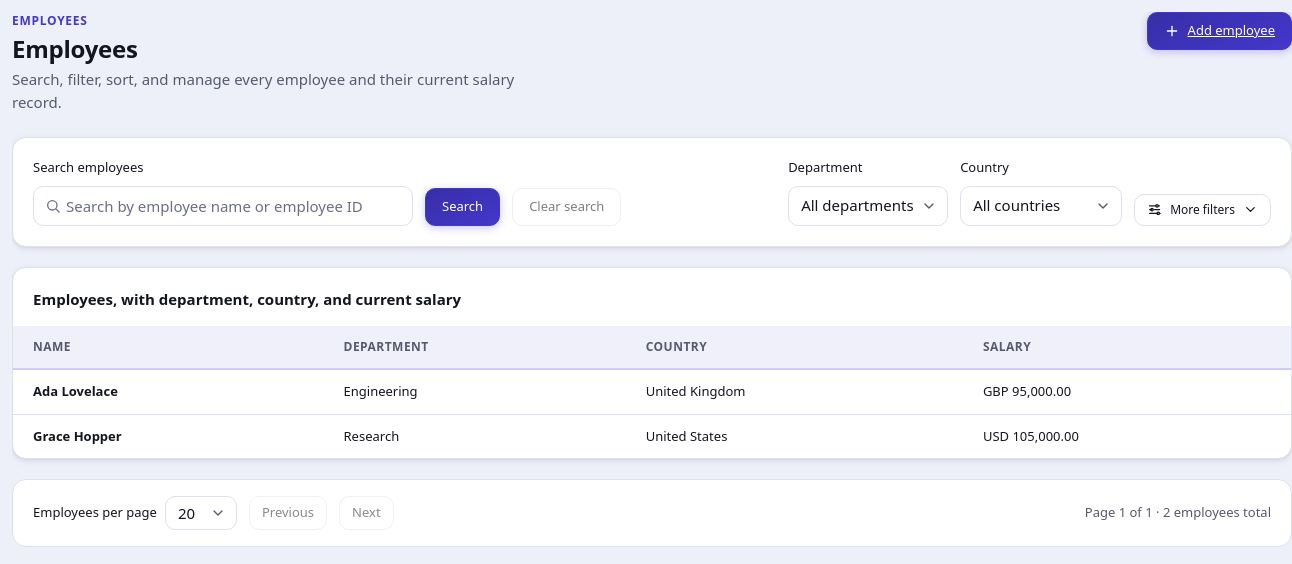
Test: EmployeeListPage › shows a safe, accessible error state when a search request fails
Expected: the link "Grace Hopper" is shown, [33,426,122,444]
In the search field labelled "Search employees": (223, 206) [33,186,413,226], type "Ada"
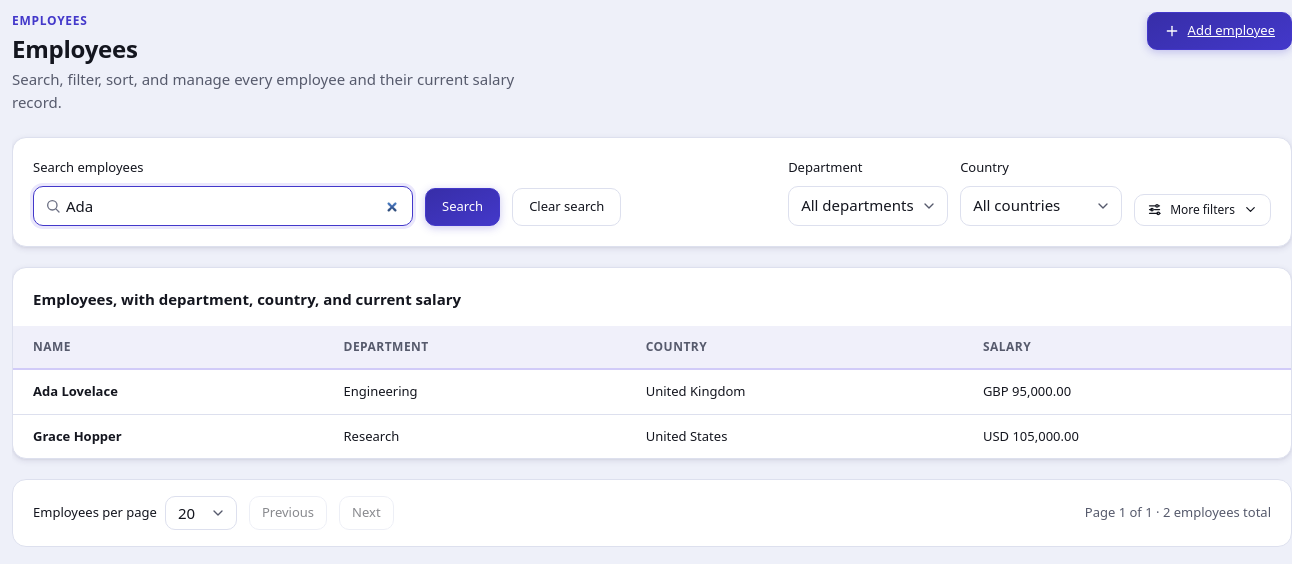
Click the button "Search": (463, 206) [425,188,500,226]
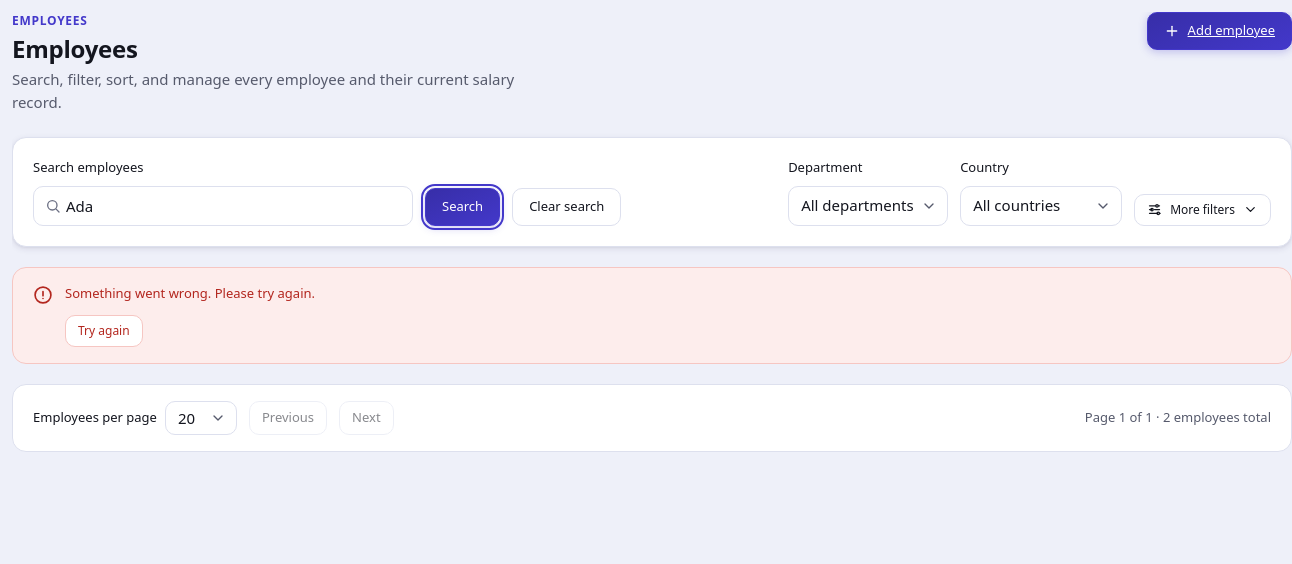
Result: the message "Something went wrong. Please try again. Try again" is shown at [12,266,1291,364]
Result: the text "Something went wrong. Please try again." is shown at [65,284,315,303]
